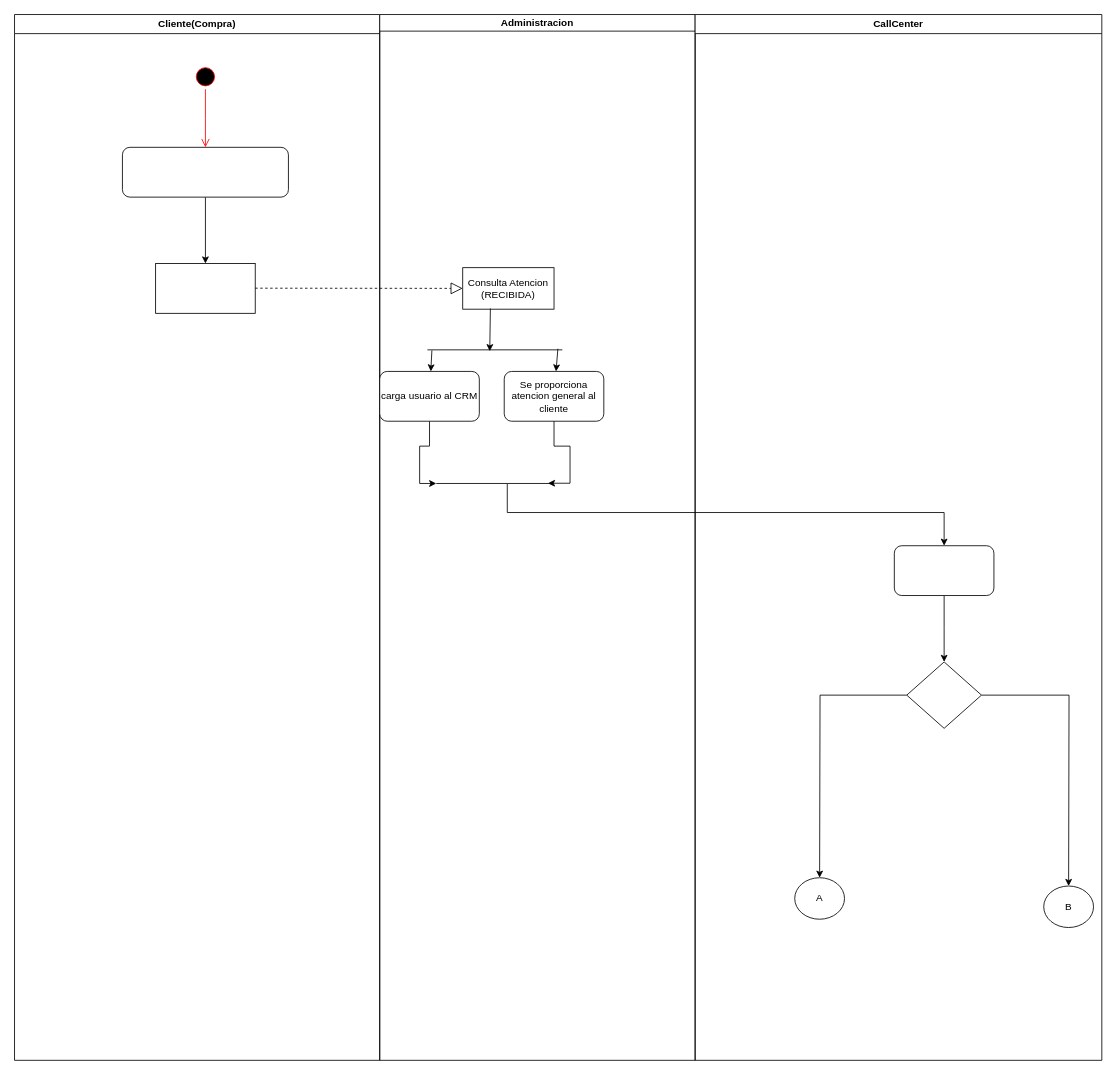
The diagram is 1116 pixels wide and 1075 high, and some of its shapes have lost their labels. Here are the shapes that lost their labels. From the top down, the box of each, then its label:
(122, 146, 288, 197): Ingresa a la pagina web (o redes sociales) y busca la consulta
(155, 263, 255, 313): Consulta Atencion (ENVIADA)
(893, 545, 994, 596): Recepcionista contacta a cliente por llamada
(906, 661, 981, 728): compra o venta?
